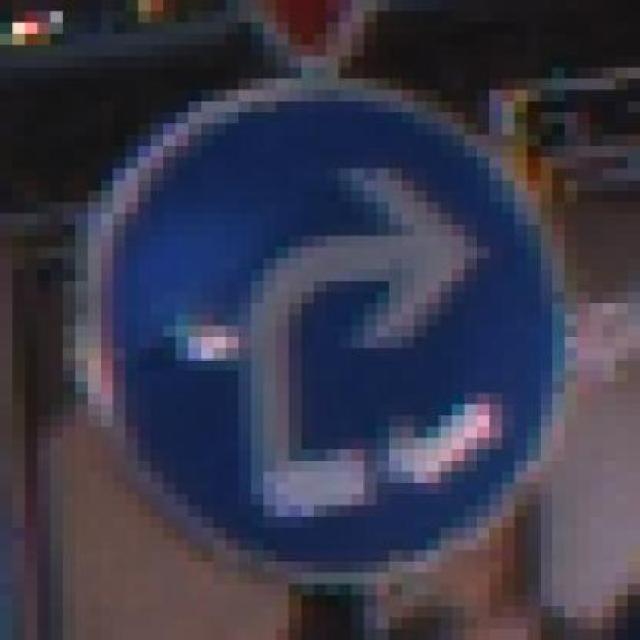Turn right ahead: (75, 67, 578, 573)
